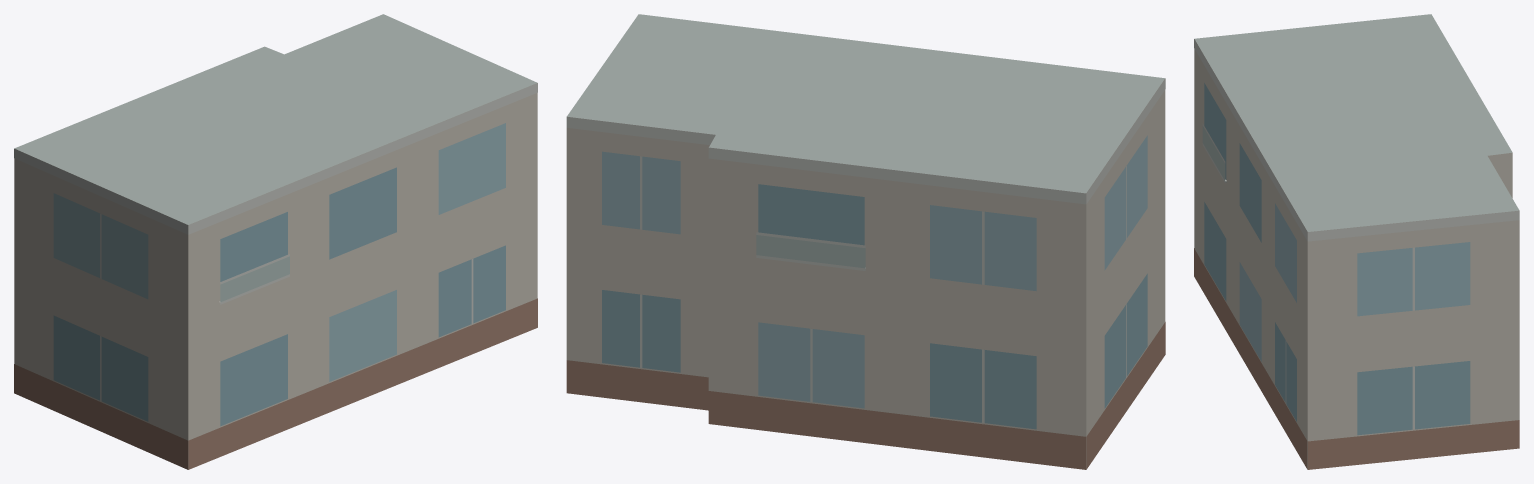
File: survey-upis-32711876.glb
3 renders of one model, left to right at view 1: azimuth 30°, elevation 25°; view 2: azimuth 150°, elevation 25°; view 3: azimuth 270°, elevation 25°, orthographic. The views are drawn at different scales.
Parts seen in each view (by area): view 1: survey-upis-32711876.tmp; view 2: survey-upis-32711876.tmp; view 3: survey-upis-32711876.tmp.
Part boxes in pixels (<box>): survey-upis-32711876.tmp: <box>14,14,537,469</box>; survey-upis-32711876.tmp: <box>566,14,1165,469</box>; survey-upis-32711876.tmp: <box>1194,14,1519,469</box>.
Bounding box in the file's own units: 12.01 × 6.1 × 7.58.
